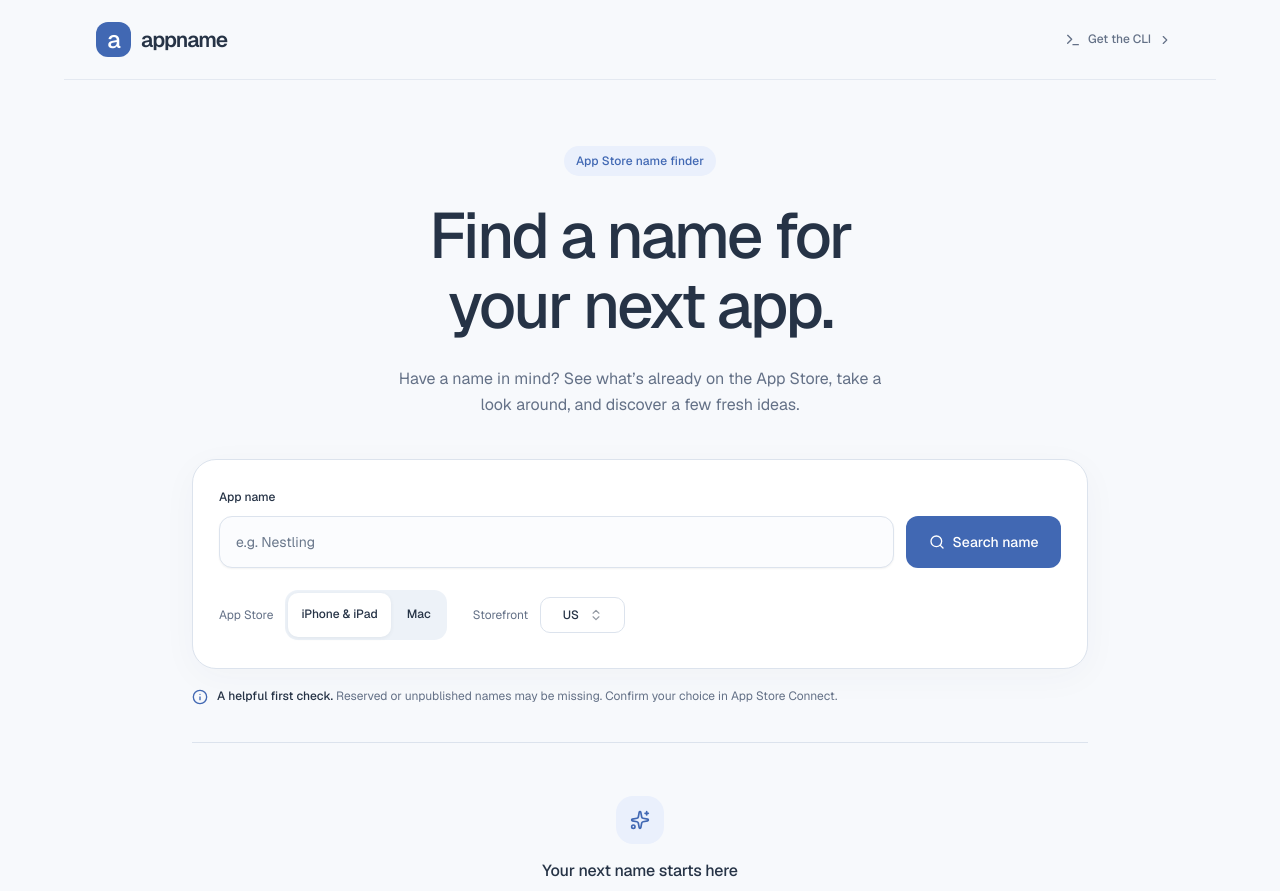
Test: Appname interface › supports searching and selecting a storefront with the keyboard
Click the dropdown named "Storefront": (583, 615) [540,597,625,633]
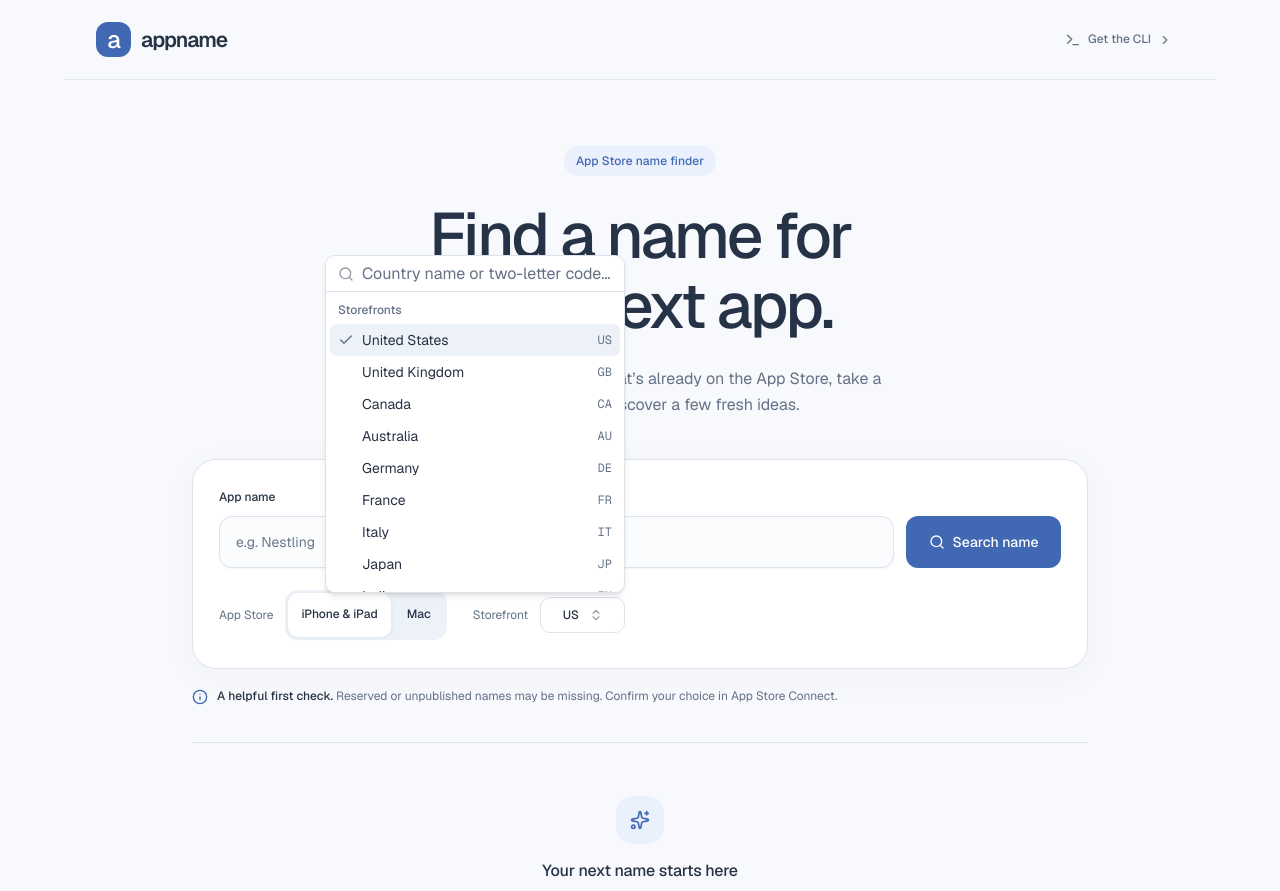
In the dropdown with placeholder "Country name or two-letter code…": (487, 274) [362,254,612,294], type "Japan"
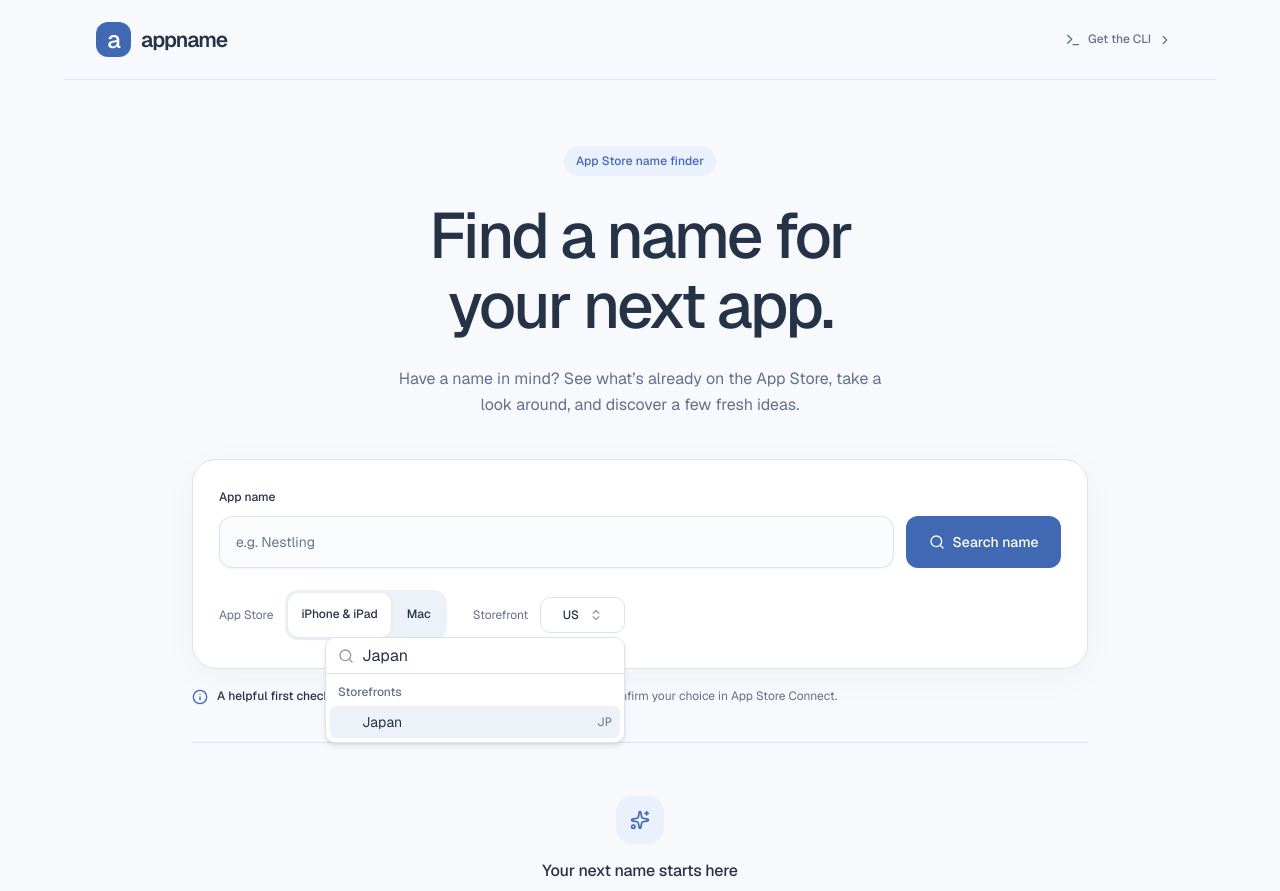
Press Arrowdown Enter
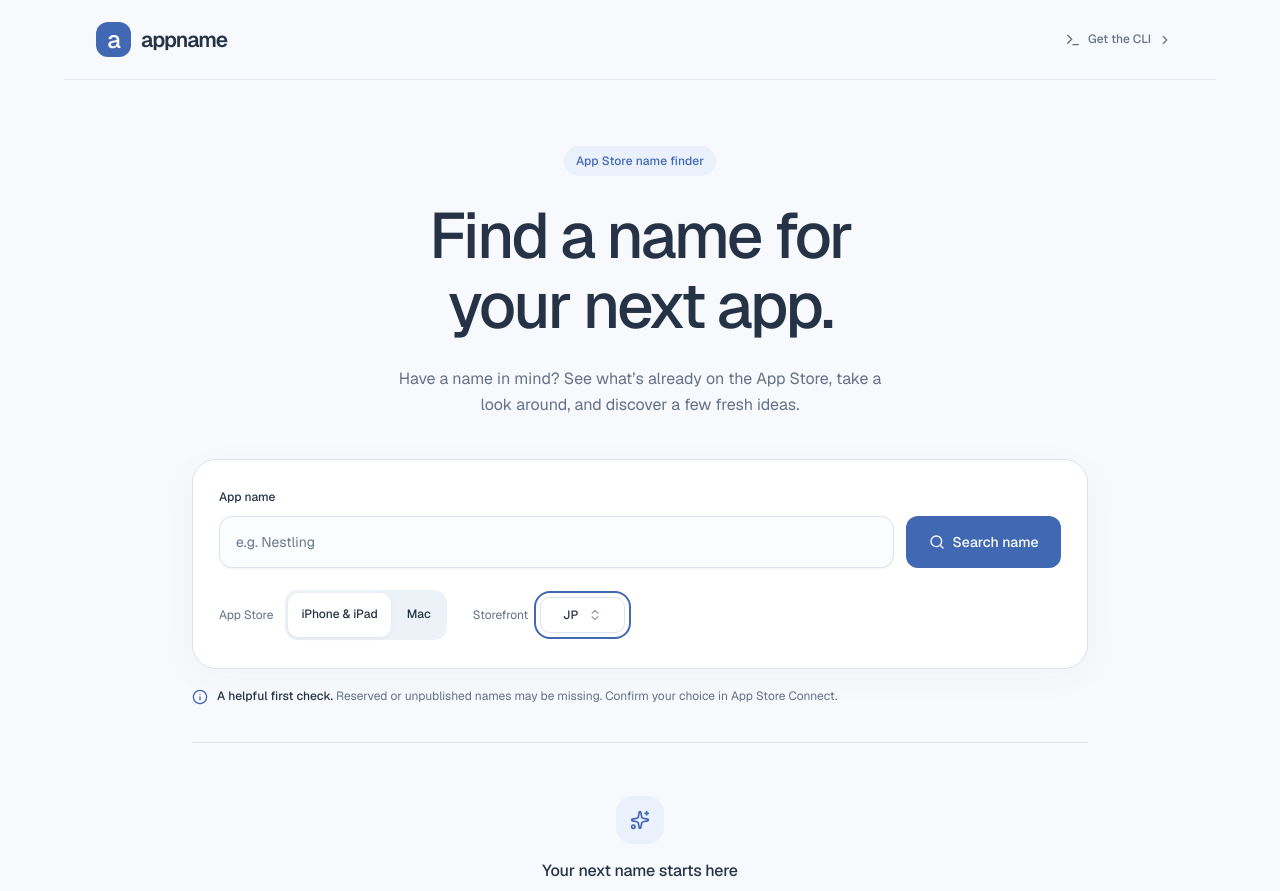
Result: the dropdown named "Storefront" reads "JP" at [540,597,625,633]
